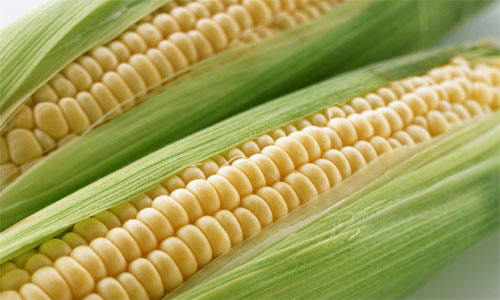corn: (1, 40, 499, 299), (0, 0, 490, 233)
